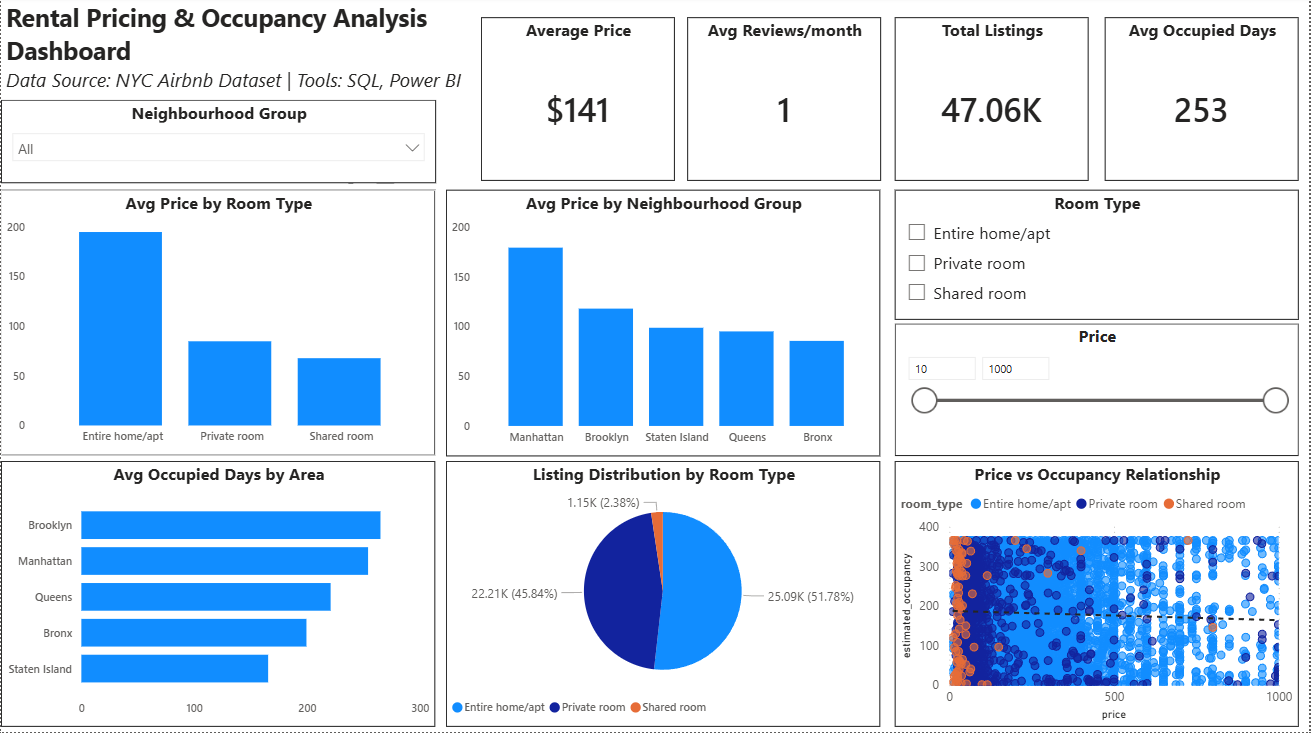

What the dashboard file says about the page in this screenshot:
{"tool":"powerbi","page":{"name":"Page 1","canvas":[1280,720],"ordinal":0},"visuals":[{"type":"card","title":"Average Price","fields":{"Values":["Avg(cleaned_airbnb_data_csv.price)"]},"box":[469.6,20.8,189.5,160.2],"z":0},{"type":"card","title":"Total Listings","fields":{"Values":["Count(cleaned_airbnb_data_csv.name)"]},"box":[874.3,20.8,189.5,160.2],"z":1000},{"type":"card","title":"Avg Occupied Days","fields":{"Values":["Avg(cleaned_airbnb_data_csv.estimated_occupancy)"]},"box":[1079.8,20.8,189.5,160.2],"z":2000},{"type":"card","title":"Avg Reviews/month","fields":{"Values":["Avg(cleaned_airbnb_data_csv.reviews_per_month)"]},"box":[671.3,20.8,189.5,160.2],"z":3000},{"type":"clusteredColumnChart","title":"Avg Price by Neighbourhood Group","fields":{"Category":["cleaned_airbnb_data_csv.neighbourhood_group"],"Y":["Avg(cleaned_airbnb_data_csv.price)"]},"box":[435.3,189.5,425,260.5],"z":4000},{"type":"columnChart","title":"Avg Price by Room Type","fields":{"Category":["cleaned_airbnb_data_csv.room_type"],"Y":["Avg(cleaned_airbnb_data_csv.price)"]},"box":[0,189.5,425,260],"z":5000},{"type":"barChart","title":"Avg Occupied Days by Area","fields":{"Category":["cleaned_airbnb_data_csv.neighbourhood_group"],"Y":["Avg(cleaned_airbnb_data_csv.estimated_occupancy)"]},"box":[0,454.9,425,260],"z":6000},{"type":"pieChart","title":"Listing Distribution by Room Type","fields":{"Category":["cleaned_airbnb_data_csv.room_type"],"Y":["CountNonNull(cleaned_airbnb_data_csv.name)"]},"box":[435.3,454.9,425,260],"z":7000},{"type":"slicer","title":"Neighbourhood Group","fields":{"Values":["cleaned_airbnb_data_csv.neighbourhood_group"]},"box":[0,101.5,425.5,81.9],"z":8000},{"type":"slicer","title":"Room Type","fields":{"Values":["cleaned_airbnb_data_csv.room_type"]},"box":[874.3,189.5,395,127.2],"z":9000},{"type":"slicer","title":"Price","fields":{"Values":["cleaned_airbnb_data_csv.price"]},"box":[874.3,320.4,395,129.6],"z":10000},{"type":"textbox","box":[0,0,469.6,101.5],"z":11000},{"type":"scatterChart","title":"Price vs Occupancy Relationship","fields":{"X":["cleaned_airbnb_data_csv.price"],"Y":["cleaned_airbnb_data_csv.estimated_occupancy"],"Series":["cleaned_airbnb_data_csv.room_type"]},"box":[874,455,395,260],"z":12000}]}

Visuals, with their boxes in screenshot pixels (x1, y1, x2, y2), scaled from the page's 1280x720 canvas onto the 1311x733 screenshot:
"Average Price" card: <region>481, 21, 675, 184</region>
"Total Listings" card: <region>895, 21, 1090, 184</region>
"Avg Occupied Days" card: <region>1106, 21, 1300, 184</region>
"Avg Reviews/month" card: <region>688, 21, 882, 184</region>
"Avg Price by Neighbourhood Group" clusteredColumnChart: <region>446, 193, 881, 458</region>
"Avg Price by Room Type" columnChart: <region>0, 193, 435, 458</region>
"Avg Occupied Days by Area" barChart: <region>0, 463, 435, 728</region>
"Listing Distribution by Room Type" pieChart: <region>446, 463, 881, 728</region>
"Neighbourhood Group" slicer: <region>0, 103, 436, 187</region>
"Room Type" slicer: <region>895, 193, 1300, 322</region>
"Price" slicer: <region>895, 326, 1300, 458</region>
textbox: <region>0, 0, 481, 103</region>
"Price vs Occupancy Relationship" scatterChart: <region>895, 463, 1300, 728</region>
